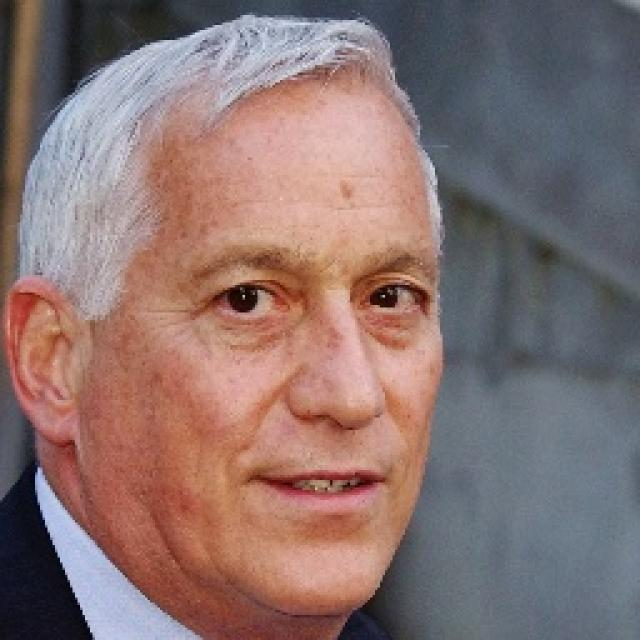earlobe: (2, 274, 78, 444)
